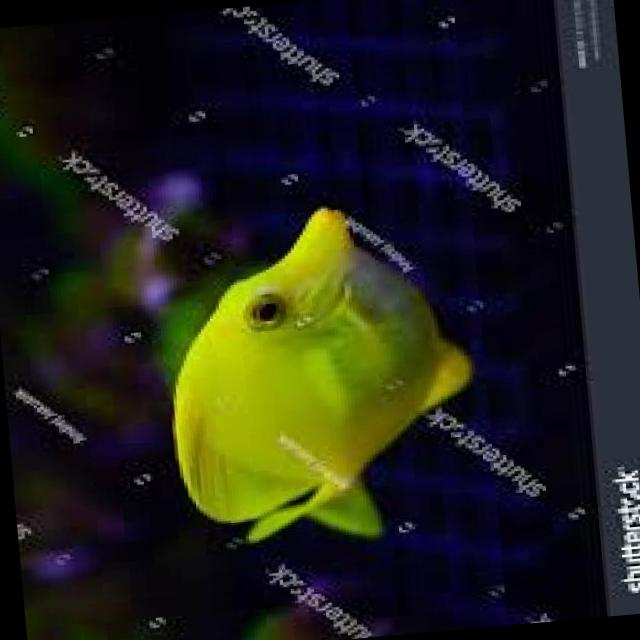YellowTang: (130, 189, 490, 557)
